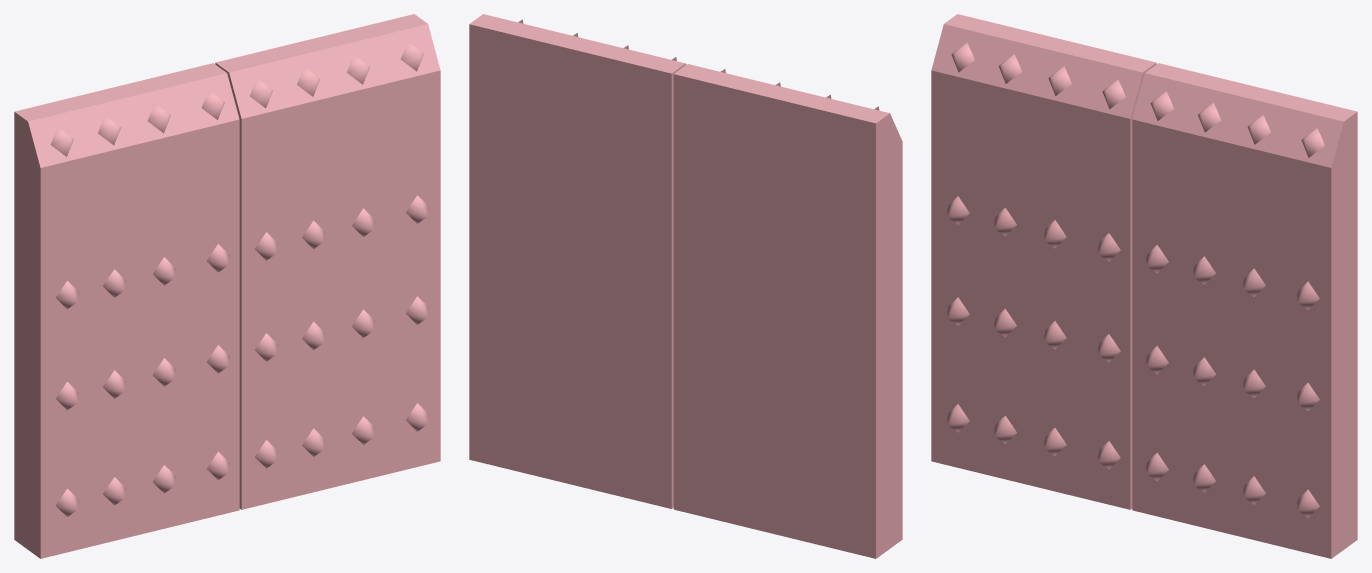
3 views of the same model, side by side, from view 1: azimuth 30°, elevation 25°; view 2: azimuth 150°, elevation 25°; view 3: azimuth 330°, elevation 25° (orthographic).
Visible parts, largest first — view 1: Object37; view 2: Object37; view 3: Object37.
Boxes of the visible parts, x1,y1,x2,y2 form: Object37: [14, 14, 440, 558]; Object37: [469, 14, 902, 558]; Object37: [931, 14, 1357, 558].
Bounding box in the file's own units: 391 × 400 × 61.22.
